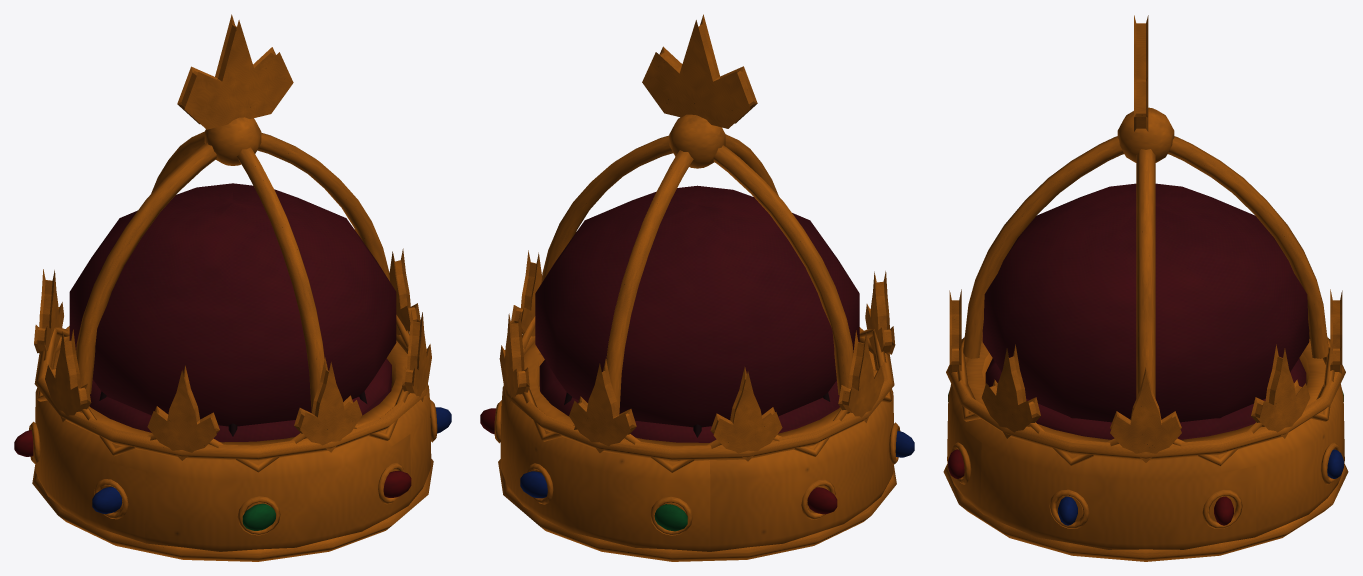
File: royal_crown_LOD1.glb
3 renders of one model, left to right at view 1: azimuth 30°, elevation 25°; view 2: azimuth 150°, elevation 25°; view 3: azimuth 270°, elevation 25°, orthographic.
Visible parts, largest first — view 1: Plush velvet cap dome, Closed jeweled crown band, Top fleur-de-lis finial, Upper beaded band rail, Rising jeweled arch 2, Lower beaded band rail, Rising jeweled arch 3, Deep velvet cap lining, Rising jeweled arch 0, Radial fleur-de-lis 5, Radial fleur-de-lis 6, Radial fleur-de-lis 4 (+9 smaller); view 2: Plush velvet cap dome, Closed jeweled crown band, Top fleur-de-lis finial, Upper beaded band rail, Rising jeweled arch 2, Lower beaded band rail, Rising jeweled arch 1, Deep velvet cap lining, Rising jeweled arch 0, Radial fleur-de-lis 3, Radial fleur-de-lis 2, Radial fleur-de-lis 4 (+9 smaller); view 3: Plush velvet cap dome, Closed jeweled crown band, Upper beaded band rail, Rising jeweled arch 1, Rising jeweled arch 3, Rising jeweled arch 0, Lower beaded band rail, Deep velvet cap lining, Radial fleur-de-lis 0, Radial fleur-de-lis 1, Radial fleur-de-lis 7, Top finial orb (+5 smaller).
Boxes of the visible parts, <box> form: Plush velvet cap dome: <box>69,183,396,426</box>; Closed jeweled crown band: <box>35,340,431,551</box>; Top fleur-de-lis finial: <box>177,14,293,129</box>; Upper beaded band rail: <box>34,326,430,460</box>; Rising jeweled arch 2: <box>76,142,216,393</box>; Lower beaded band rail: <box>32,459,433,561</box>; Rising jeweled arch 3: <box>237,147,324,412</box>; Deep velvet cap lining: <box>89,358,391,442</box>; Rising jeweled arch 0: <box>257,132,389,281</box>; Radial fleur-de-lis 5: <box>147,365,219,460</box>; Radial fleur-de-lis 6: <box>294,357,361,452</box>; Radial fleur-de-lis 4: <box>45,329,91,421</box>; Plush velvet cap dome: <box>535,185,859,427</box>; Closed jeweled crown band: <box>500,342,893,551</box>; Top fleur-de-lis finial: <box>642,14,757,128</box>; Upper beaded band rail: <box>501,327,894,461</box>; Rising jeweled arch 2: <box>713,145,853,395</box>; Lower beaded band rail: <box>498,459,896,561</box>; Rising jeweled arch 1: <box>606,150,693,413</box>; Deep velvet cap lining: <box>539,360,839,442</box>; Rising jeweled arch 0: <box>541,135,672,283</box>; Radial fleur-de-lis 3: <box>710,366,782,461</box>; Radial fleur-de-lis 2: <box>569,358,636,452</box>; Radial fleur-de-lis 4: <box>838,330,884,422</box>; Plush velvet cap dome: <box>982,183,1309,422</box>; Closed jeweled crown band: <box>947,339,1344,549</box>; Upper beaded band rail: <box>946,332,1345,460</box>; Rising jeweled arch 1: <box>1168,136,1328,358</box>; Rising jeweled arch 3: <box>963,136,1123,358</box>; Rising jeweled arch 0: <box>1136,149,1155,398</box>; Lower beaded band rail: <box>943,463,1348,561</box>; Deep velvet cap lining: <box>985,358,1306,439</box>; Radial fleur-de-lis 0: <box>1110,367,1181,462</box>; Radial fleur-de-lis 1: <box>1251,344,1310,438</box>; Radial fleur-de-lis 7: <box>981,344,1040,438</box>; Top finial orb: <box>1117,107,1174,162</box>.
Size of the model in its own units: 0.344 by 0.427 by 0.336.
Materials: 6 (6 with a texture image).
